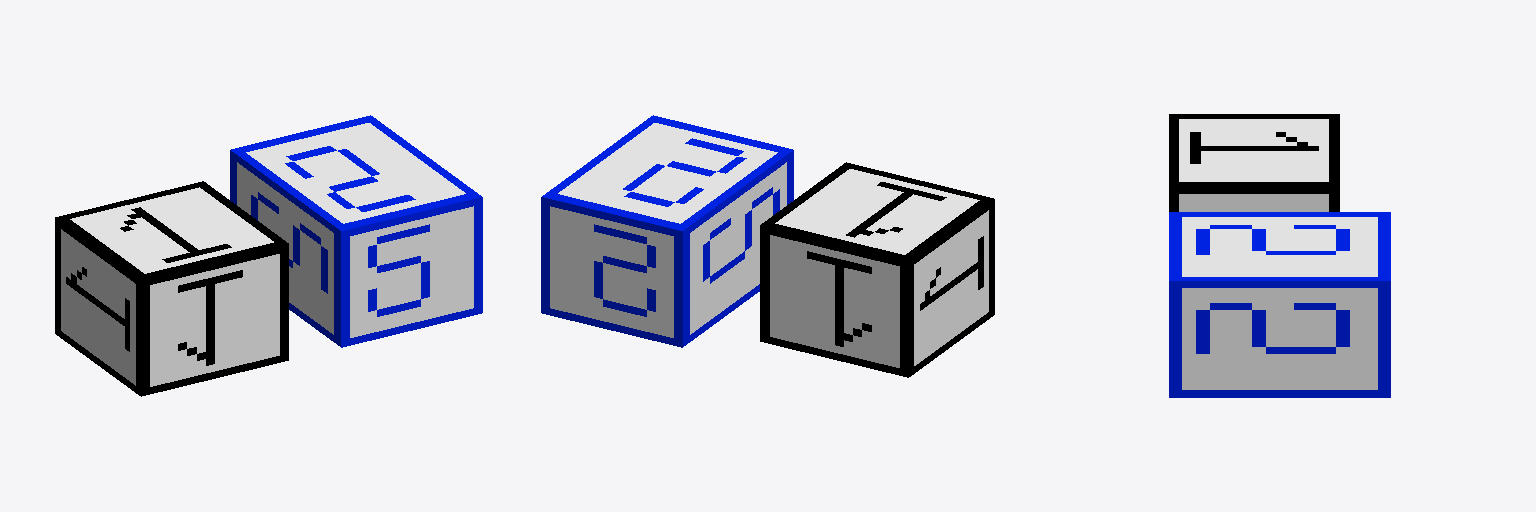
3 views of the same model, side by side, from view 1: azimuth 30°, elevation 25°; view 2: azimuth 150°, elevation 25°; view 3: azimuth 270°, elevation 25° (orthographic).
Visible parts, largest first — view 1: Box 2, Box 1; view 2: Box 2, Box 1; view 3: Box 2, Box 1.
Boxes of the visible parts, x1,y1,x2,y2 form: Box 2: [230, 115, 482, 347]; Box 1: [55, 181, 288, 396]; Box 2: [541, 115, 793, 347]; Box 1: [760, 162, 994, 377]; Box 2: [1169, 212, 1390, 397]; Box 1: [1169, 114, 1339, 211].
Bounding box in the file's own units: 46 × 15 × 26.
2 materials, 2 textured.